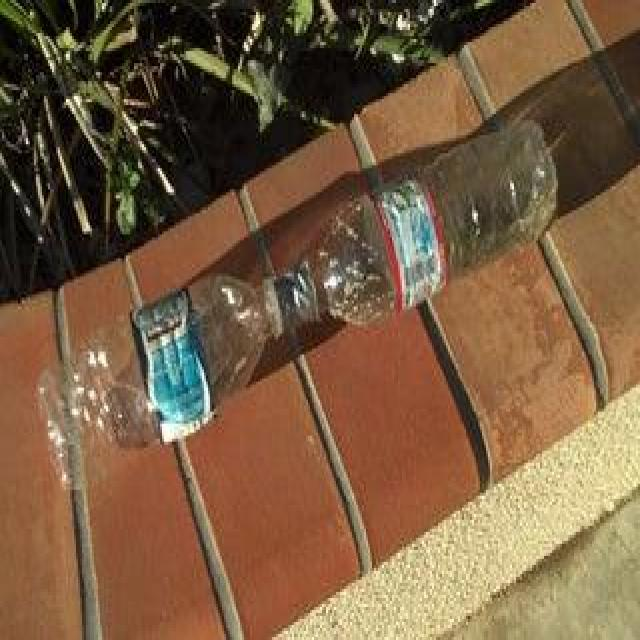bottle: (293, 104, 557, 401), (34, 242, 290, 518)
